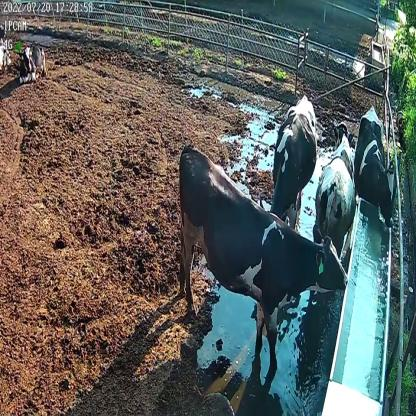cow: (178, 138, 349, 373), (258, 92, 318, 230), (313, 121, 358, 257), (355, 102, 396, 229), (16, 41, 50, 82)
